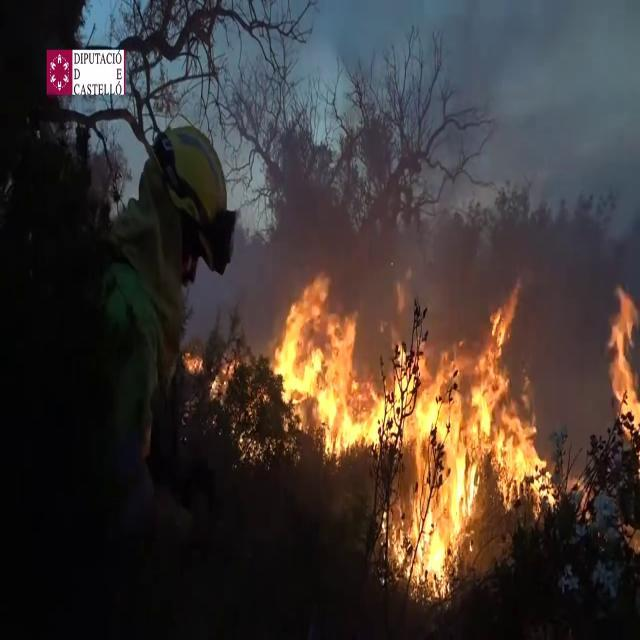Fire: (382, 291, 554, 588), (270, 270, 380, 464), (604, 277, 640, 472), (182, 342, 240, 409)
